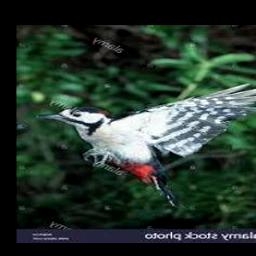Woodpecker: (36, 82, 256, 207)
